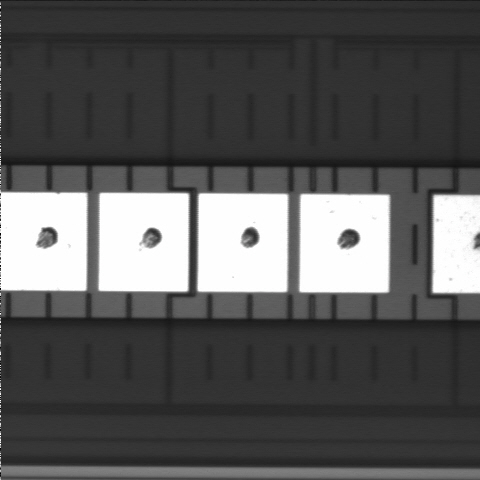pad: (198, 193, 288, 292), (299, 194, 389, 293), (99, 193, 189, 291)
